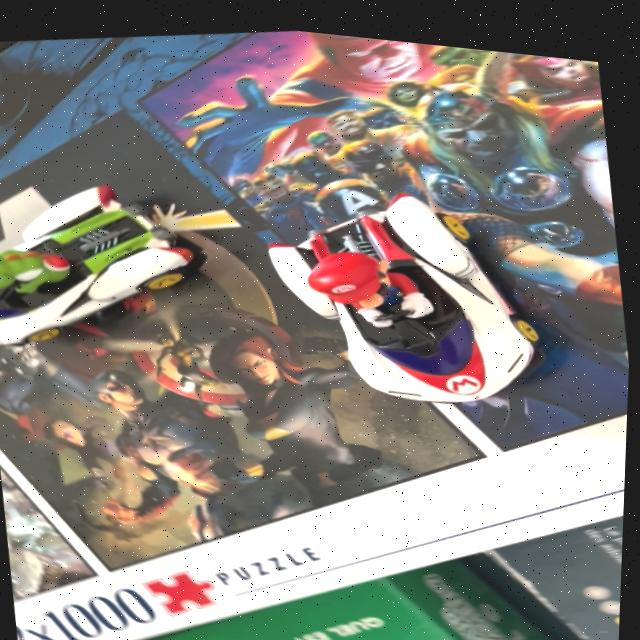mario: (243, 145, 579, 439)
yoshi: (0, 127, 233, 379)
